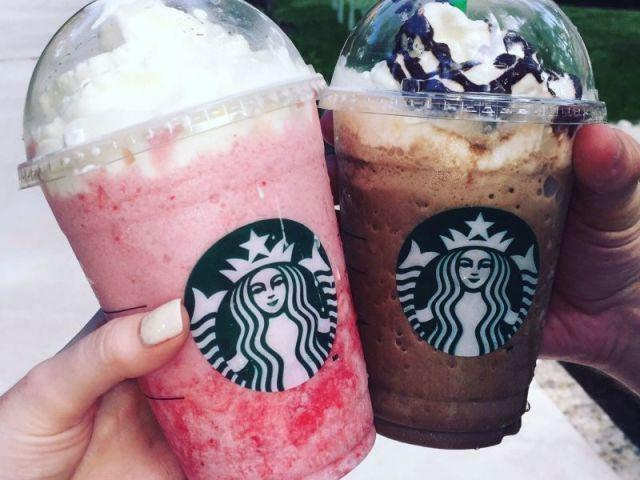cup-disposable: (17, 1, 376, 479), (322, 1, 605, 452)
